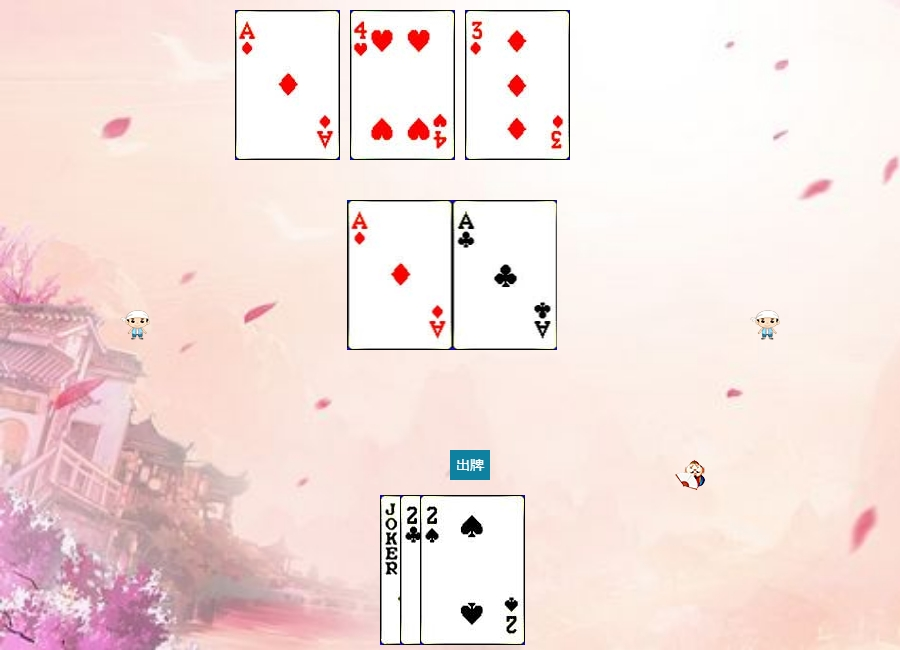14~1: (235, 10, 340, 160), (348, 200, 453, 350)
14~2: (453, 200, 558, 350)
15~2: (400, 495, 505, 645)
15~4: (420, 495, 525, 645)
17~3: (380, 495, 485, 645)
3~1: (465, 10, 570, 160)
4~3: (350, 10, 455, 160)
